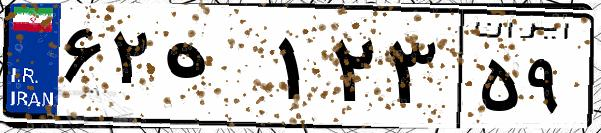1: (270, 28, 330, 110)
2: (330, 28, 385, 110), (110, 28, 158, 98)
3: (385, 28, 445, 110)
5: (475, 38, 525, 113)
6: (57, 26, 110, 100)
9: (525, 38, 570, 115)
ه: (158, 20, 270, 120)
